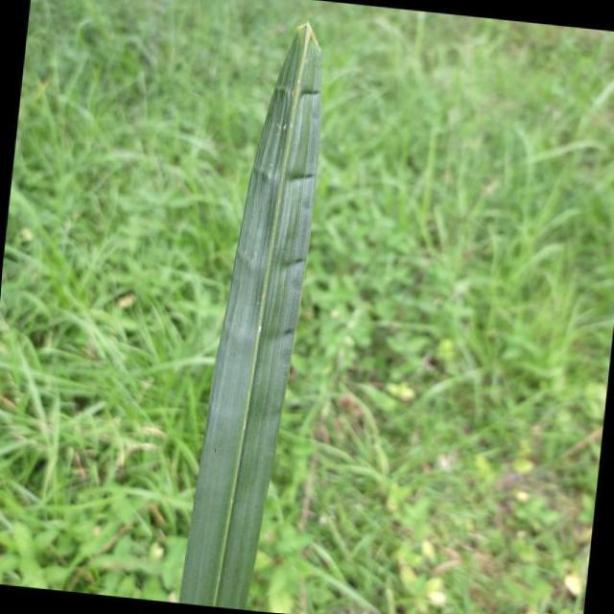Boron: (176, 18, 324, 610)
